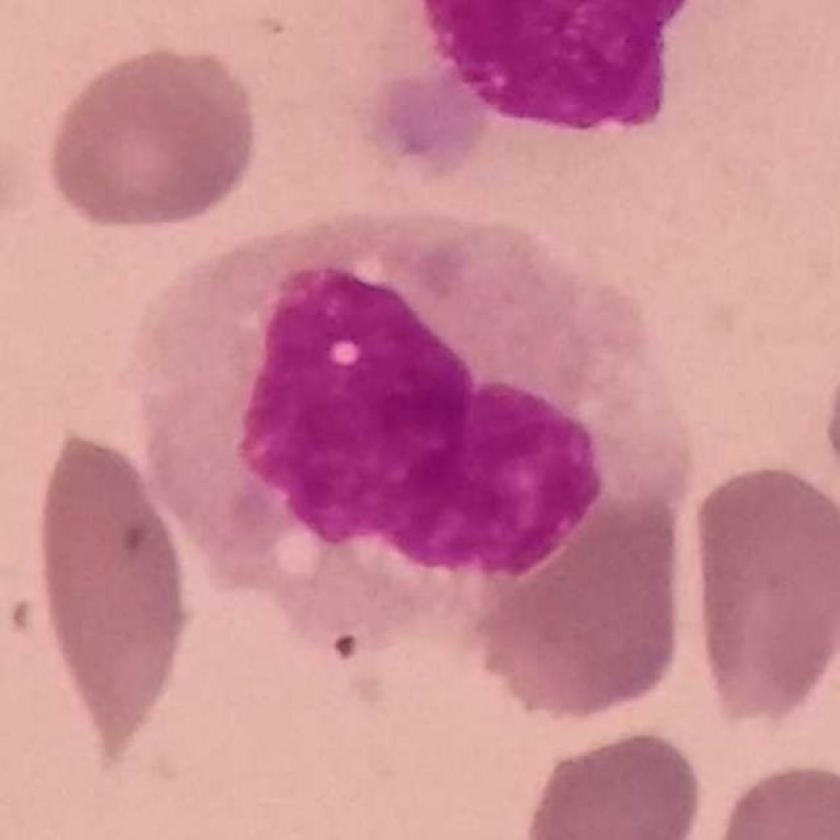monocyte: (134, 204, 709, 643)
